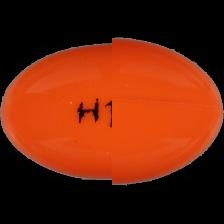43353-998: (0, 0, 224, 224)
